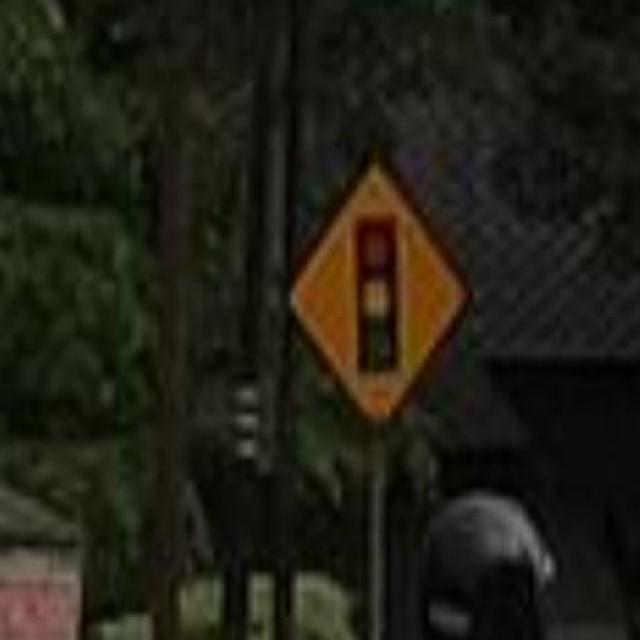traffic sign: (300, 154, 468, 410)
